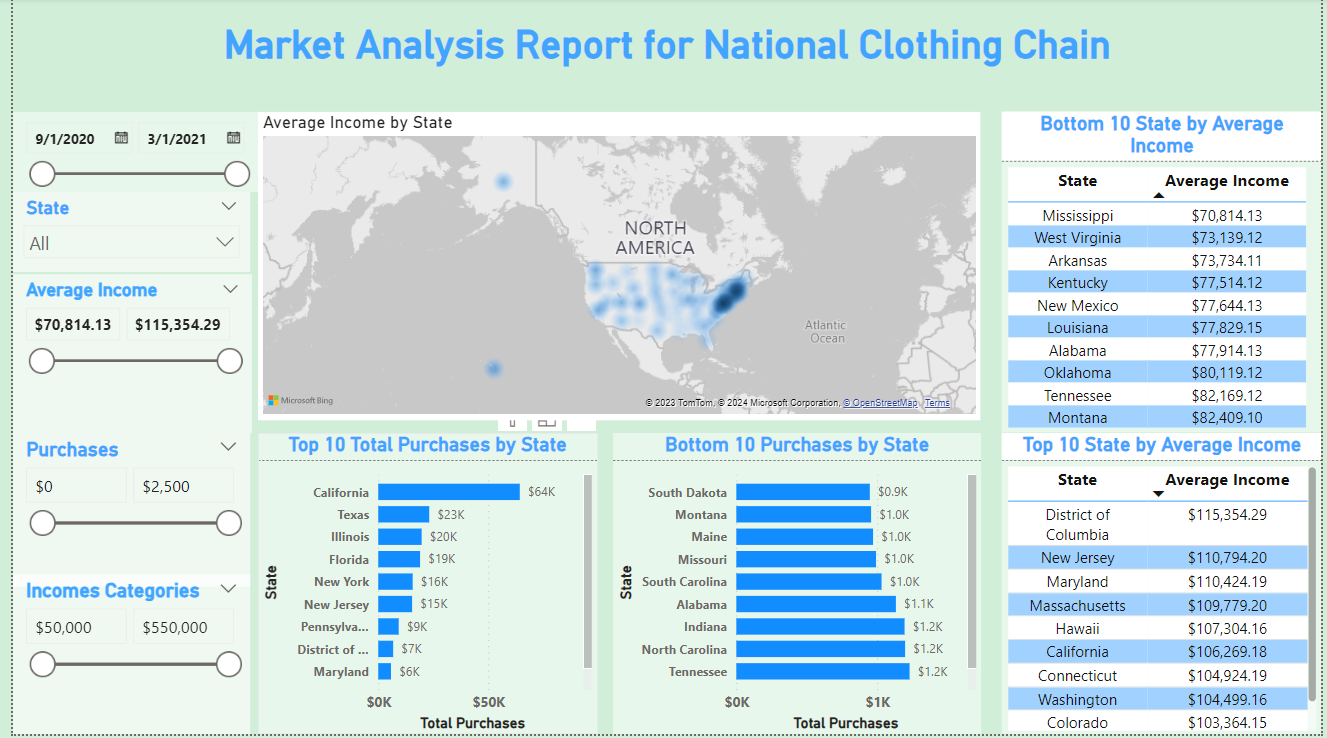

What the dashboard file says about the page in this screenshot:
{"tool":"powerbi","page":{"name":"Geographical Analysis","canvas":[1280,720],"ordinal":4},"visuals":[{"type":"slicer","fields":{"Values":["Incomes by State.State"]},"box":[0,190,231.7,78.3],"z":0},{"type":"slicer","fields":{"Values":["Purchase List.Purchases"]},"box":[0,425,231.7,150],"z":1000},{"type":"slicer","fields":{"Values":["Avg Income by State.Average Income"]},"box":[0,270,233.3,155],"z":2000},{"type":"slicer","fields":{"Values":["Customer List.Incomes Categories"]},"box":[0,563.3,231.7,156.7],"z":3000},{"type":"textbox","box":[0,0,1280,82],"z":4000},{"type":"clusteredBarChart","title":"Top 10 Total Purchases by State","fields":{"Category":["State_List.State"],"Y":["Sum(Purchase List.Purchases)"]},"box":[240,425,331.7,295],"z":5000},{"type":"clusteredBarChart","title":"Bottom 10 Purchases by State","fields":{"Category":["State_List.State"],"Y":["Sum(Purchase List.Purchases)"]},"box":[586.7,425,360,295],"z":6000},{"type":"map","fields":{"Category":["Avg Income by State.State"],"Size":["Avg(Avg Income by State.Average Income)"]},"box":[240,111.7,706.7,301.7],"z":7000},{"type":"tableEx","title":"Top 10 State by Average Income","fields":{"Values":["Avg Income by State.State","Avg Income by State.Average Income"]},"box":[966.7,425,313.3,295],"z":8000},{"type":"tableEx","title":"Bottom 10 State by Average Income","fields":{"Values":["Customer List.State","Avg Income by State.Average Income"]},"box":[966.7,111.7,313.3,313.3],"z":9000},{"type":"slicer","fields":{"Values":["Purchase List.Date"]},"box":[0,111.7,240,78.3],"z":10000}]}

Visuals, with their boxes in screenshot pixels (x1, y1, x2, y2), scaled from the page's 1280x720 canvas onto the 1327x738 screenshot:
slicer - Incomes by State.State: 0/195/240/275
slicer - Purchase List.Purchases: 0/436/240/589
slicer - Avg Income by State.Average Income: 0/277/242/436
slicer - Customer List.Incomes Categories: 0/577/240/737
textbox: 0/0/1326/84
"Top 10 Total Purchases by State" clusteredBarChart: 249/436/593/737
"Bottom 10 Purchases by State" clusteredBarChart: 608/436/981/737
map - Avg Income by State.State x Avg(Avg Income by State.Average Income): 249/114/981/424
"Top 10 State by Average Income" tableEx: 1002/436/1326/737
"Bottom 10 State by Average Income" tableEx: 1002/114/1326/436
slicer - Purchase List.Date: 0/114/249/195
